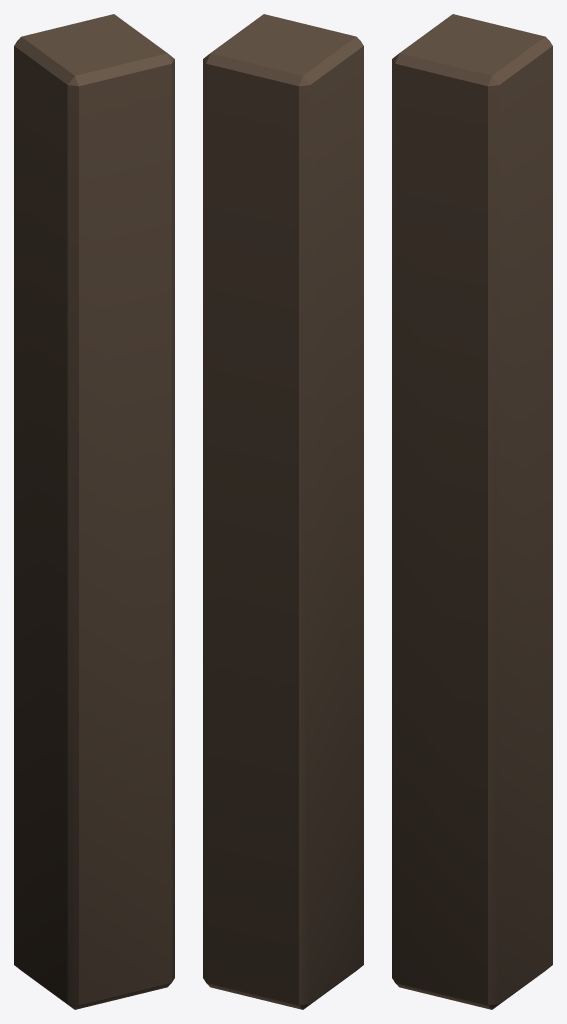
File: bld.jp_house.post.mo.glb
3 views of the same model, side by side, from view 1: azimuth 30°, elevation 25°; view 2: azimuth 150°, elevation 25°; view 3: azimuth 330°, elevation 25° (orthographic).
Visible parts, largest first — view 1: LOD0; view 2: LOD0; view 3: LOD0.
Part boxes in pixels (x1,y1,x2,y2): LOD0: (14,14,174,1009); LOD0: (203,14,363,1009); LOD0: (392,14,552,1009).
Size of the model in its own units: 0.12 by 1 by 0.12.
